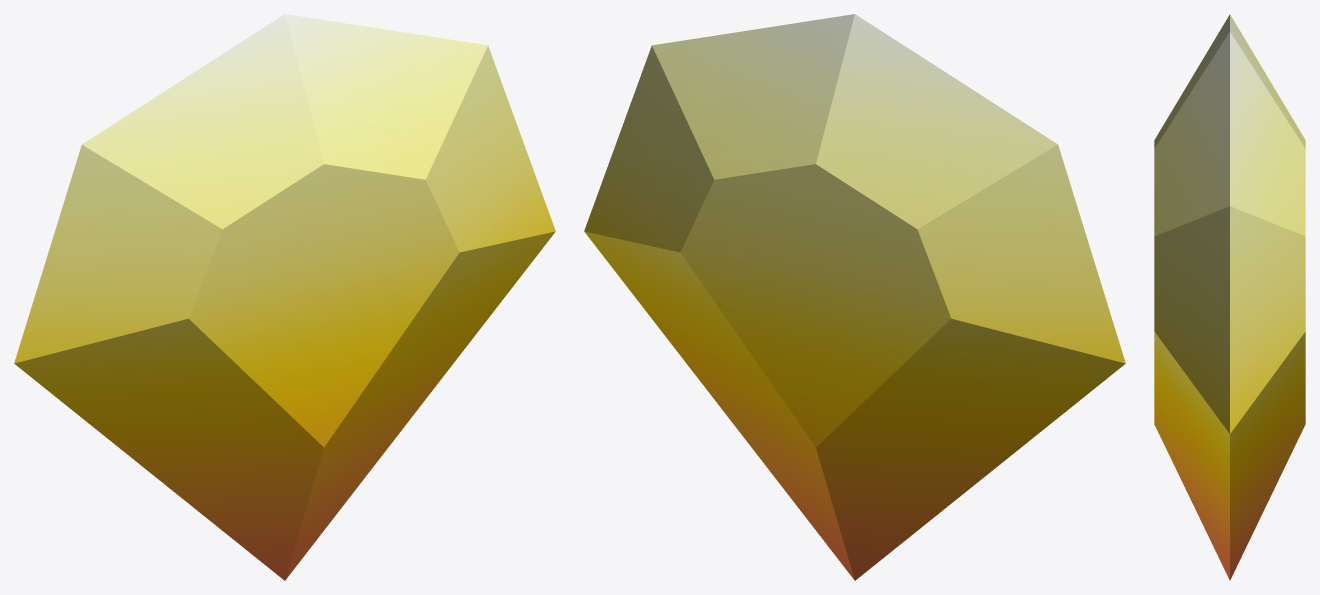
File: gems5.glb
3 renders of one model, left to right at view 1: azimuth 30°, elevation 25°; view 2: azimuth 150°, elevation 25°; view 3: azimuth 270°, elevation 25°, orthographic. The views are drawn at different scales.
Visible parts, largest first — view 1: Gem6; view 2: Gem6; view 3: Gem6.
Part boxes in pixels (box(x1,y1,x2,y2)): Gem6: box(14, 14, 555, 580); Gem6: box(584, 14, 1125, 580); Gem6: box(1154, 14, 1305, 580).
Size of the model in its own units: 1 by 1 by 0.25.
1 material, 1 textured.
